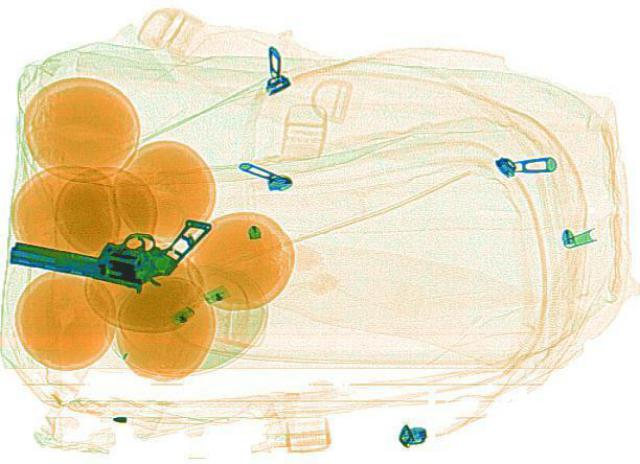Gun: (3, 189, 211, 293)
